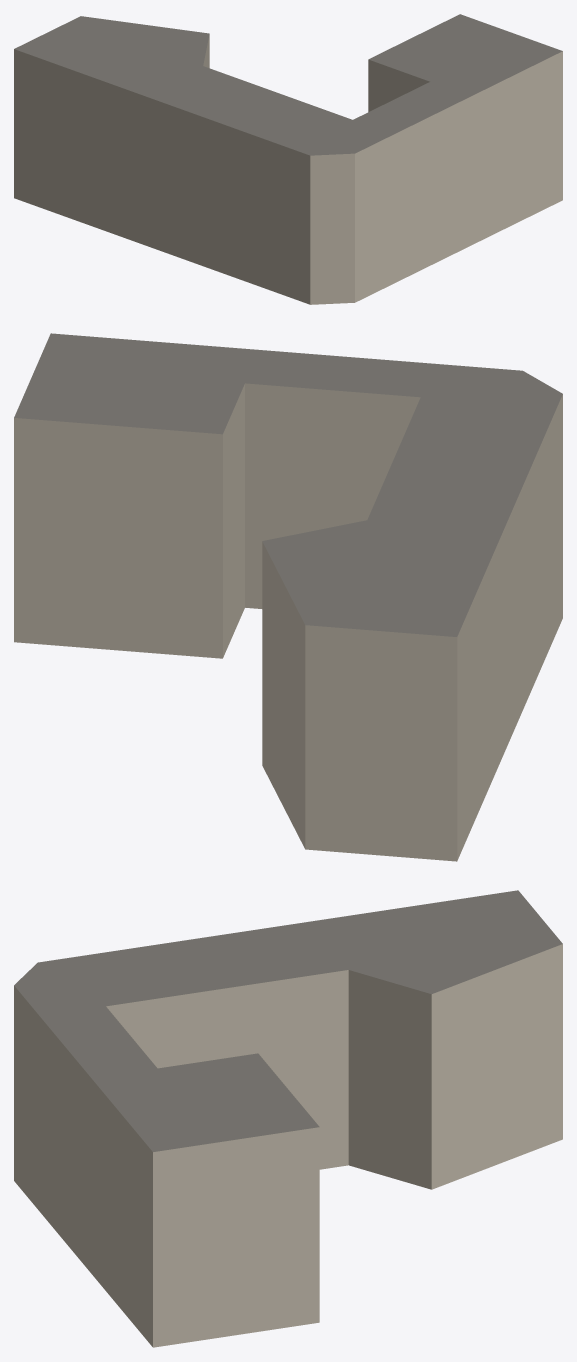
The picture shows the model from 3 angles, top to bottom: view 1: azimuth 30°, elevation 25°; view 2: azimuth 150°, elevation 25°; view 3: azimuth 270°, elevation 25°; orthographic projection. The views are drawn at different scales.
Visible parts, largest first — view 1: HP-w494080948; view 2: HP-w494080948; view 3: HP-w494080948.
Part boxes in pixels (x1,y1,x2,y2): HP-w494080948: [14, 14, 562, 304]; HP-w494080948: [14, 333, 562, 861]; HP-w494080948: [14, 890, 562, 1347].
Size of the model in its own units: 43.1 by 15 by 38.17.
